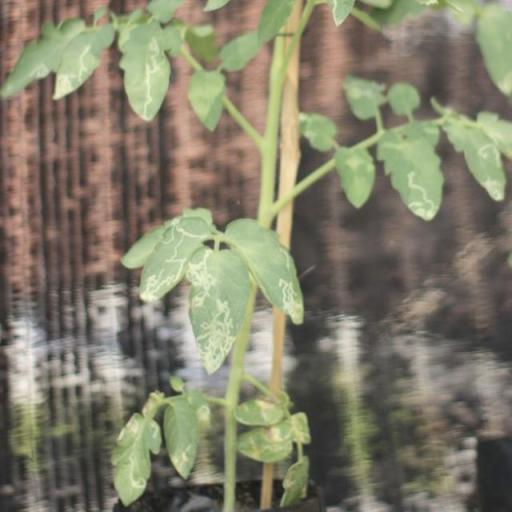Leaf Miner: (224, 216, 304, 326), (189, 242, 252, 378), (136, 213, 208, 303), (376, 130, 444, 220), (106, 412, 164, 506), (120, 23, 172, 121), (164, 394, 200, 482)
